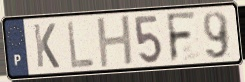5: (132, 13, 165, 65)
9: (202, 9, 232, 60)
F: (165, 10, 199, 64)
H: (95, 13, 137, 70)
K: (32, 22, 62, 70)
L: (65, 18, 96, 70)
